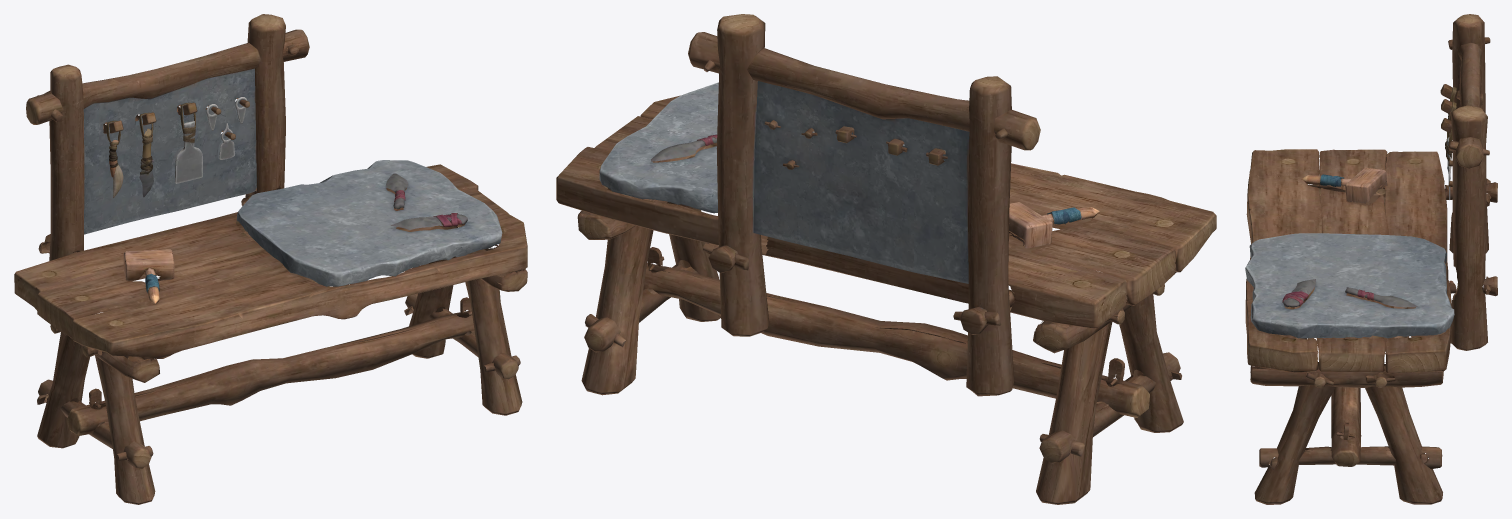
The picture shows the model from 3 angles, left to right: view 1: azimuth 30°, elevation 25°; view 2: azimuth 150°, elevation 25°; view 3: azimuth 270°, elevation 25°; orthographic projection. The views are drawn at different scales.
Parts seen in each view (by area): view 1: SM_Crafting_Table_01_LOD0; view 2: SM_Crafting_Table_01_LOD0; view 3: SM_Crafting_Table_01_LOD0.
Part boxes in pixels (bbox=[...]): SM_Crafting_Table_01_LOD0: bbox=[14, 14, 527, 504]; SM_Crafting_Table_01_LOD0: bbox=[556, 14, 1216, 504]; SM_Crafting_Table_01_LOD0: bbox=[1245, 14, 1497, 504].
Size of the model in its own units: 2.26 by 1.67 by 1.18.
Materials: 2 (2 with a texture image).
